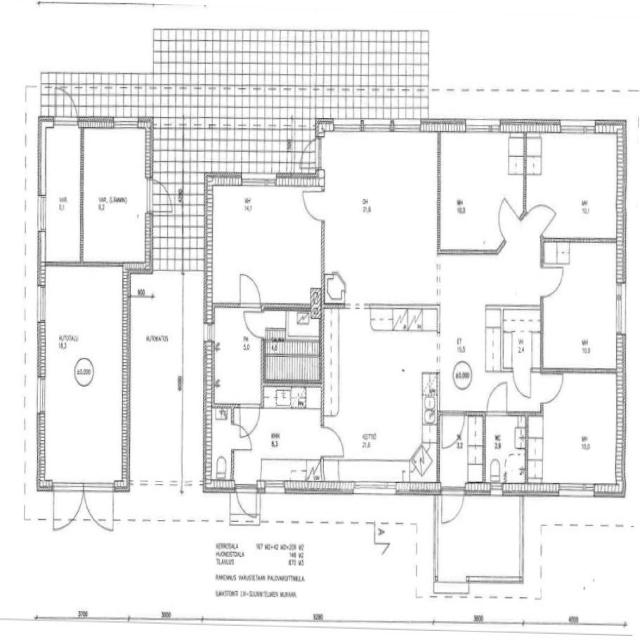door: (236, 268, 264, 326), (495, 196, 522, 246), (318, 421, 348, 462), (438, 485, 466, 527), (439, 411, 466, 454), (538, 262, 568, 300), (526, 201, 559, 235), (53, 89, 80, 130), (538, 368, 566, 406), (236, 401, 262, 441), (234, 482, 260, 521), (299, 187, 326, 224), (484, 379, 509, 418), (242, 307, 266, 341), (148, 180, 170, 215), (511, 366, 533, 400), (232, 422, 255, 453), (373, 532, 393, 558)
window: (613, 277, 628, 342), (351, 478, 399, 498), (463, 116, 502, 138), (557, 480, 597, 501), (558, 118, 598, 138), (238, 173, 280, 190), (34, 374, 48, 418), (34, 282, 48, 326), (35, 190, 48, 237), (390, 118, 423, 136), (330, 120, 364, 137), (361, 119, 394, 136), (112, 114, 140, 132), (262, 478, 288, 496), (202, 319, 214, 348)
zone: (320, 130, 440, 308), (322, 306, 440, 487), (36, 262, 127, 493), (438, 246, 542, 414), (206, 183, 324, 307), (128, 260, 182, 498), (530, 370, 624, 492), (526, 131, 624, 240), (437, 128, 521, 254), (541, 241, 622, 371), (80, 123, 150, 267), (40, 121, 83, 266), (263, 384, 321, 484), (210, 306, 264, 404), (263, 306, 322, 382), (49, 481, 117, 537), (483, 413, 528, 491), (500, 306, 543, 372), (204, 407, 236, 491)
